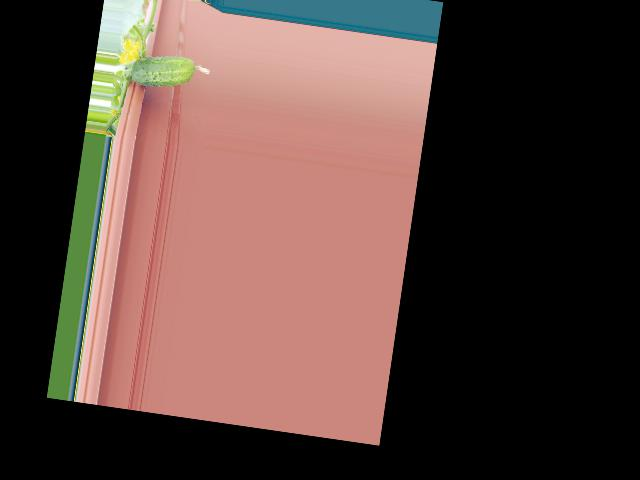cucumber: (129, 49, 212, 94)
